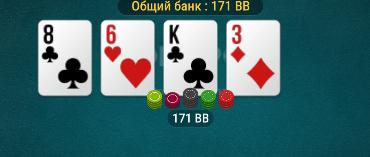3d: (228, 21, 279, 95)
6h: (102, 21, 154, 96)
8c: (39, 21, 92, 95)
Kc: (165, 21, 215, 92)
